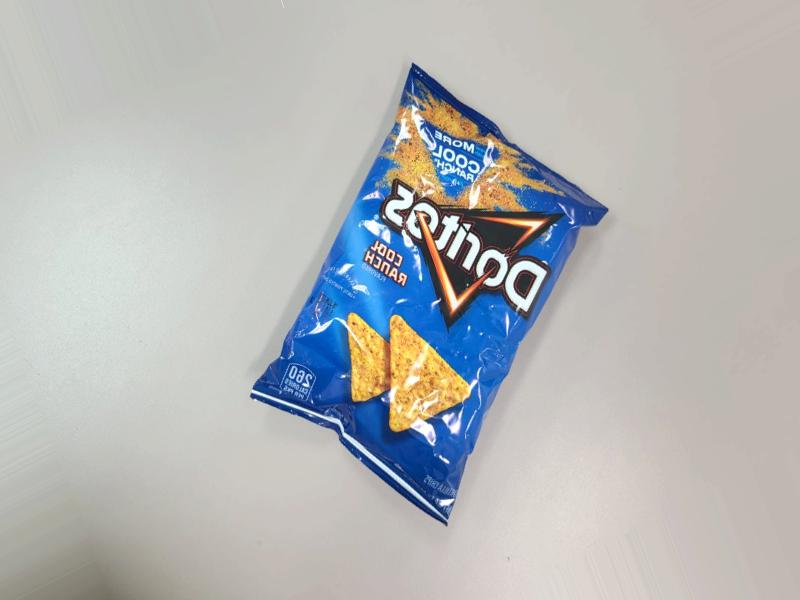doritos: (274, 112, 675, 581)
